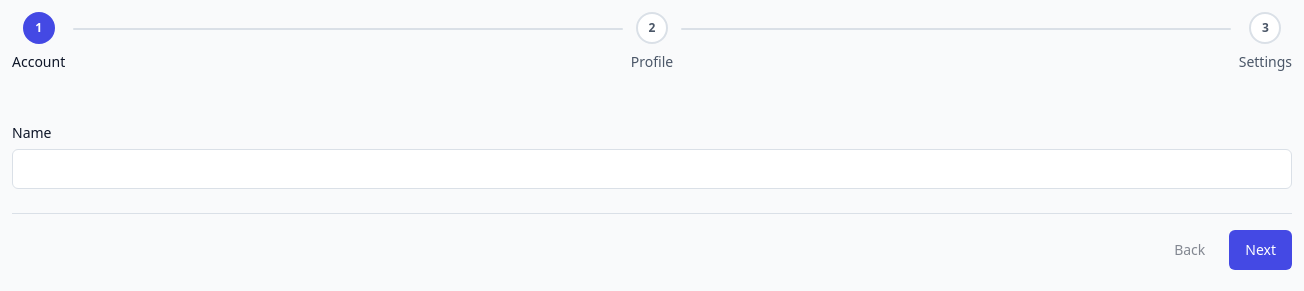
Test: FormWizard — navigation › Next from a valid step advances to the next step
In the field labelled "Name": (652, 169) x1=12 y1=149 x2=1292 y2=189, type "Ada"
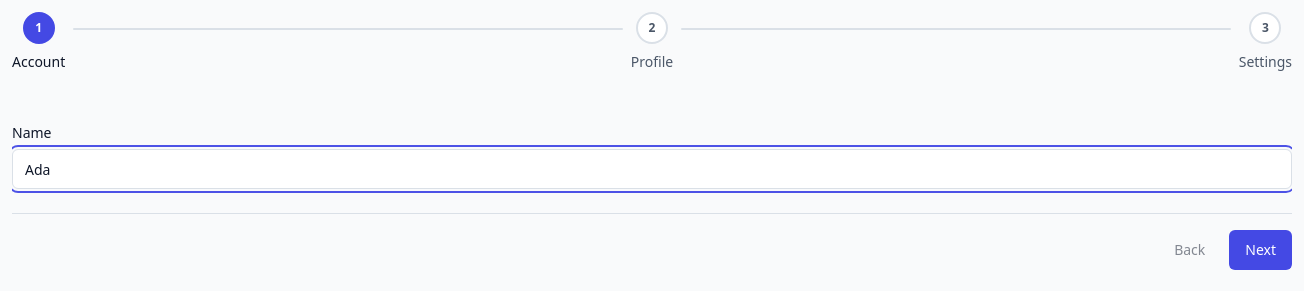
Click the button with test id "wizard-next": (1261, 250) x1=1229 y1=230 x2=1292 y2=270
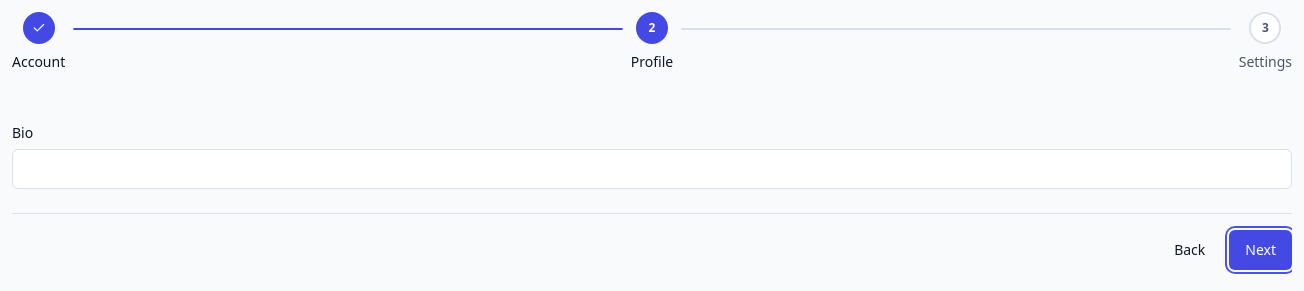
Expected: the field labelled "Bio" is shown, x1=12 y1=149 x2=1292 y2=189
